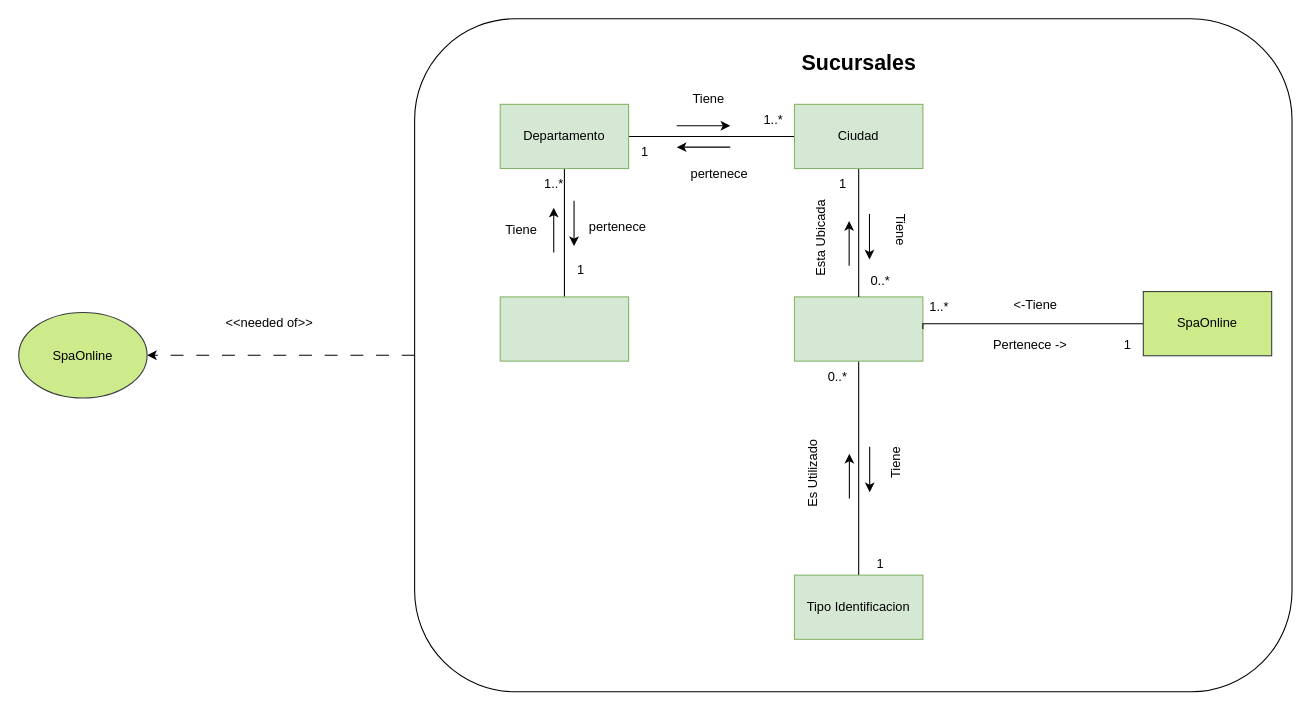
Some shapes in this 1311 by 710 pixel diagram are drawn without their labels. The shapes that lost their labels are listed below. From the top down, each one's centre as x and y in pixels, then its label:
At point (564, 328): "Pais".
At point (858, 328): "Sucursal".
